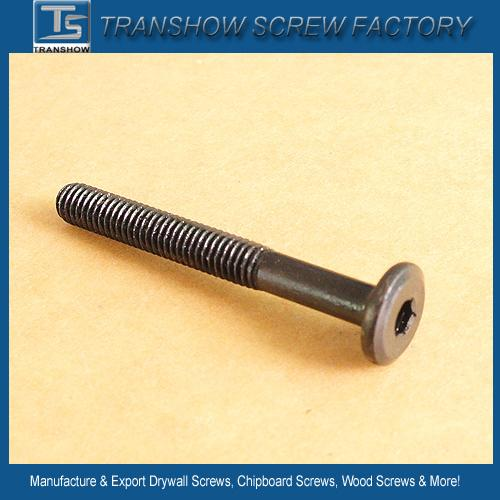Tornillo: (53, 180, 427, 368)
